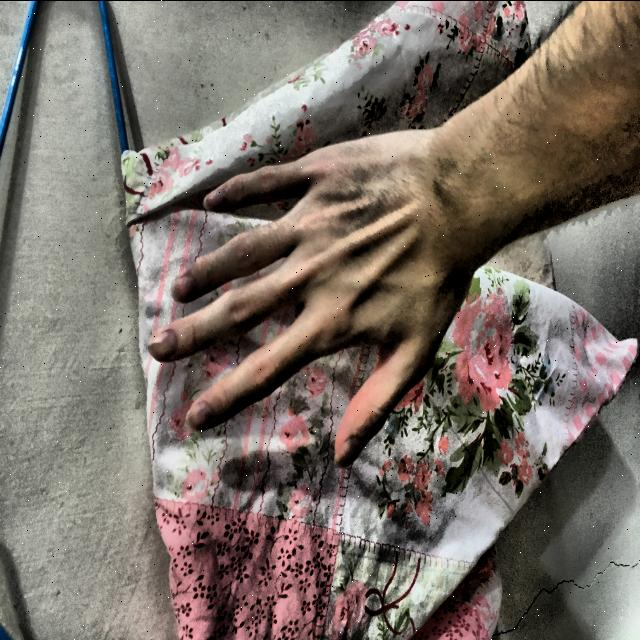not-gloved: (135, 114, 484, 487)
